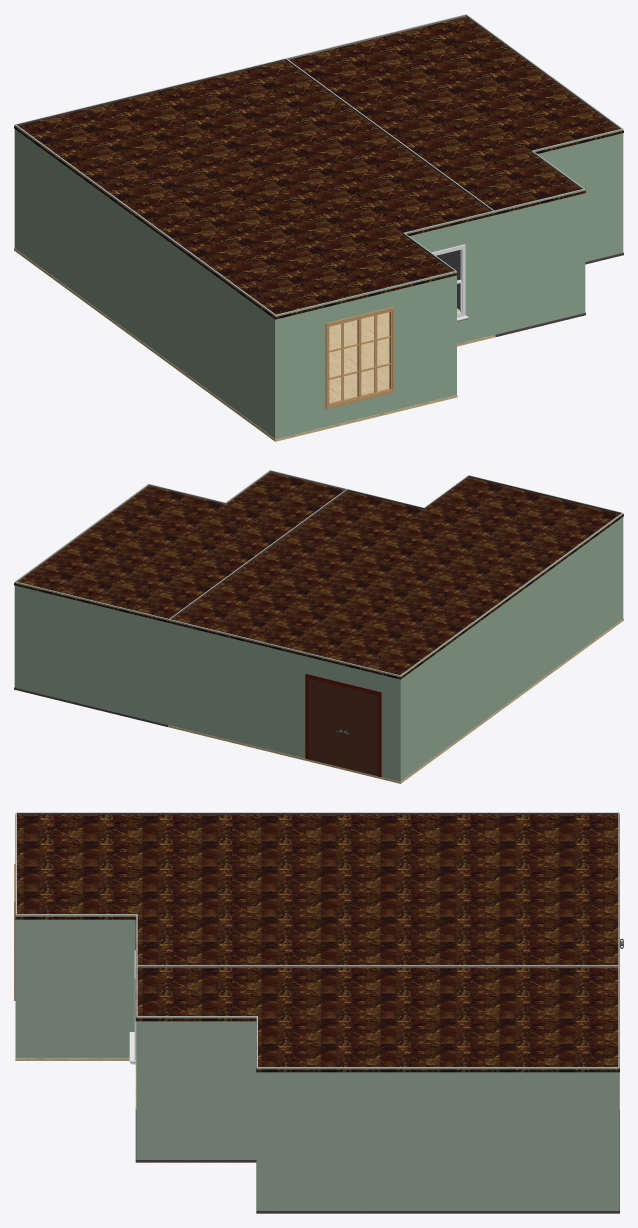
Rendered from ProcTHOR-Train-6.glb.
The picture shows the model from 3 angles, top to bottom: view 1: azimuth 30°, elevation 25°; view 2: azimuth 150°, elevation 25°; view 3: azimuth 270°, elevation 25°; orthographic projection. The views are drawn at different scales.
Parts seen in each view (by area): view 1: Ceiling#room|2|c, WallInside#wall|exterior|10.12|0.00|10.12|10.12, Ceiling#room|3|c, WallInside#wall|exterior|6.07|10.12|10.12|10.12, WallInside#wall|exterior|2.02|8.10|4.05|8.10, WallInside#wall|exterior|0.00|6.07|2.02|6.07, Floor#room|2|f, WallInside#wall|exterior|4.05|8.10|6.07|8.10, Window_Fixed_60x72, WallInside#wall|2|4.05|0.00|4.05|8.10, WallInside#wall|2|4.05|0.00|10.12|0.00, Window_Hung_44x60; view 2: Ceiling#room|2|c, WallInside#wall|exterior|10.12|0.00|10.12|10.12, Ceiling#room|3|c, WallInside#wall|exterior|4.05|0.00|10.12|0.00, WallInside#wall|exterior|0.00|0.00|4.05|0.00, Doorway_Door_1b, Doorway_Door_1a, Floor#room|2|f, Doorway_Double_1, WallInside#wall|2|4.05|0.00|4.05|8.10; view 3: Ceiling#room|2|c, WallInside#wall|exterior|0.00|0.00|0.00|6.07, Ceiling#room|3|c, WallInside#wall|exterior|2.02|6.07|2.02|8.10, WallInside#wall|exterior|6.07|8.10|6.07|10.12, WallInside#wall|2|10.12|0.00|10.12|10.12, Floor#room|3|f, WallInside#wall|3|4.05|0.00|4.05|8.10, WallInside#wall|exterior|10.12|0.00|10.12|10.12.
Part boxes in pixels (box(x1,y1,x2,y2)): Ceiling#room|2|c: box(14, 60, 495, 319); WallInside#wall|exterior|10.12|0.00|10.12|10.12: box(14, 124, 275, 438); Ceiling#room|3|c: box(289, 16, 623, 214); WallInside#wall|exterior|6.07|10.12|10.12|10.12: box(275, 271, 456, 438); WallInside#wall|exterior|2.02|8.10|4.05|8.10: box(494, 189, 585, 334); WallInside#wall|exterior|0.00|6.07|2.02|6.07: box(532, 129, 623, 261); Floor#room|2|f: box(14, 248, 495, 441); WallInside#wall|exterior|4.05|8.10|6.07|8.10: box(404, 211, 494, 343); Window_Fixed_60x72: box(325, 307, 394, 408); WallInside#wall|2|4.05|0.00|4.05|8.10: box(285, 58, 493, 309); WallInside#wall|2|4.05|0.00|10.12|0.00: box(16, 58, 285, 125); Window_Hung_44x60: box(432, 244, 468, 321); Ceiling#room|2|c: box(168, 477, 623, 679); WallInside#wall|exterior|10.12|0.00|10.12|10.12: box(400, 513, 623, 781); Ceiling#room|3|c: box(14, 472, 345, 622); WallInside#wall|exterior|4.05|0.00|10.12|0.00: box(169, 619, 400, 781); WallInside#wall|exterior|0.00|0.00|4.05|0.00: box(14, 582, 169, 725); Doorway_Door_1b: box(308, 679, 343, 767); Doorway_Door_1a: box(343, 687, 378, 776); Floor#room|2|f: box(168, 618, 623, 783); Doorway_Double_1: box(305, 674, 381, 776); WallInside#wall|2|4.05|0.00|4.05|8.10: box(169, 489, 347, 619); Ceiling#room|2|c: box(15, 814, 619, 966); WallInside#wall|exterior|0.00|0.00|0.00|6.07: box(256, 1067, 619, 1210); Ceiling#room|3|c: box(135, 967, 619, 1072); WallInside#wall|exterior|2.02|6.07|2.02|8.10: box(136, 1016, 256, 1159); WallInside#wall|exterior|6.07|8.10|6.07|10.12: box(15, 914, 136, 1057); WallInside#wall|2|10.12|0.00|10.12|10.12: box(17, 812, 618, 814); Floor#room|3|f: box(135, 1108, 619, 1213); WallInside#wall|3|4.05|0.00|4.05|8.10: box(136, 965, 618, 967); WallInside#wall|exterior|10.12|0.00|10.12|10.12: box(16, 812, 617, 812).
Size of the model in its own units: 10.16 by 2.71 by 10.25.
104 materials, 36 textured.
